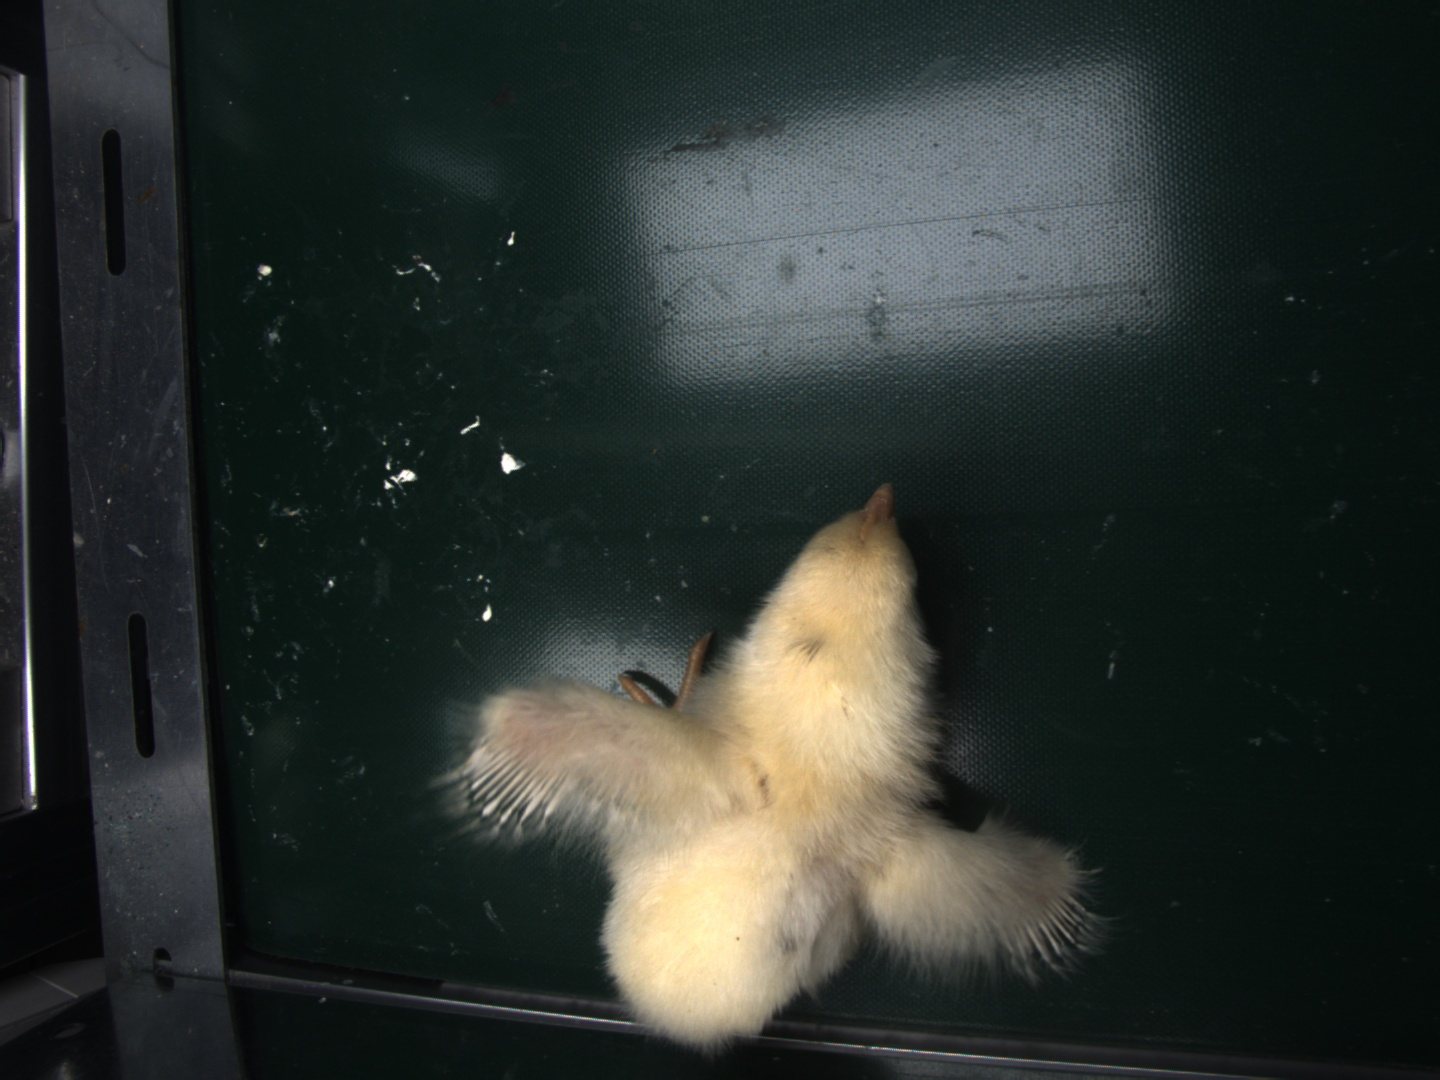male: (466, 739, 564, 832), (1011, 892, 1090, 962)
